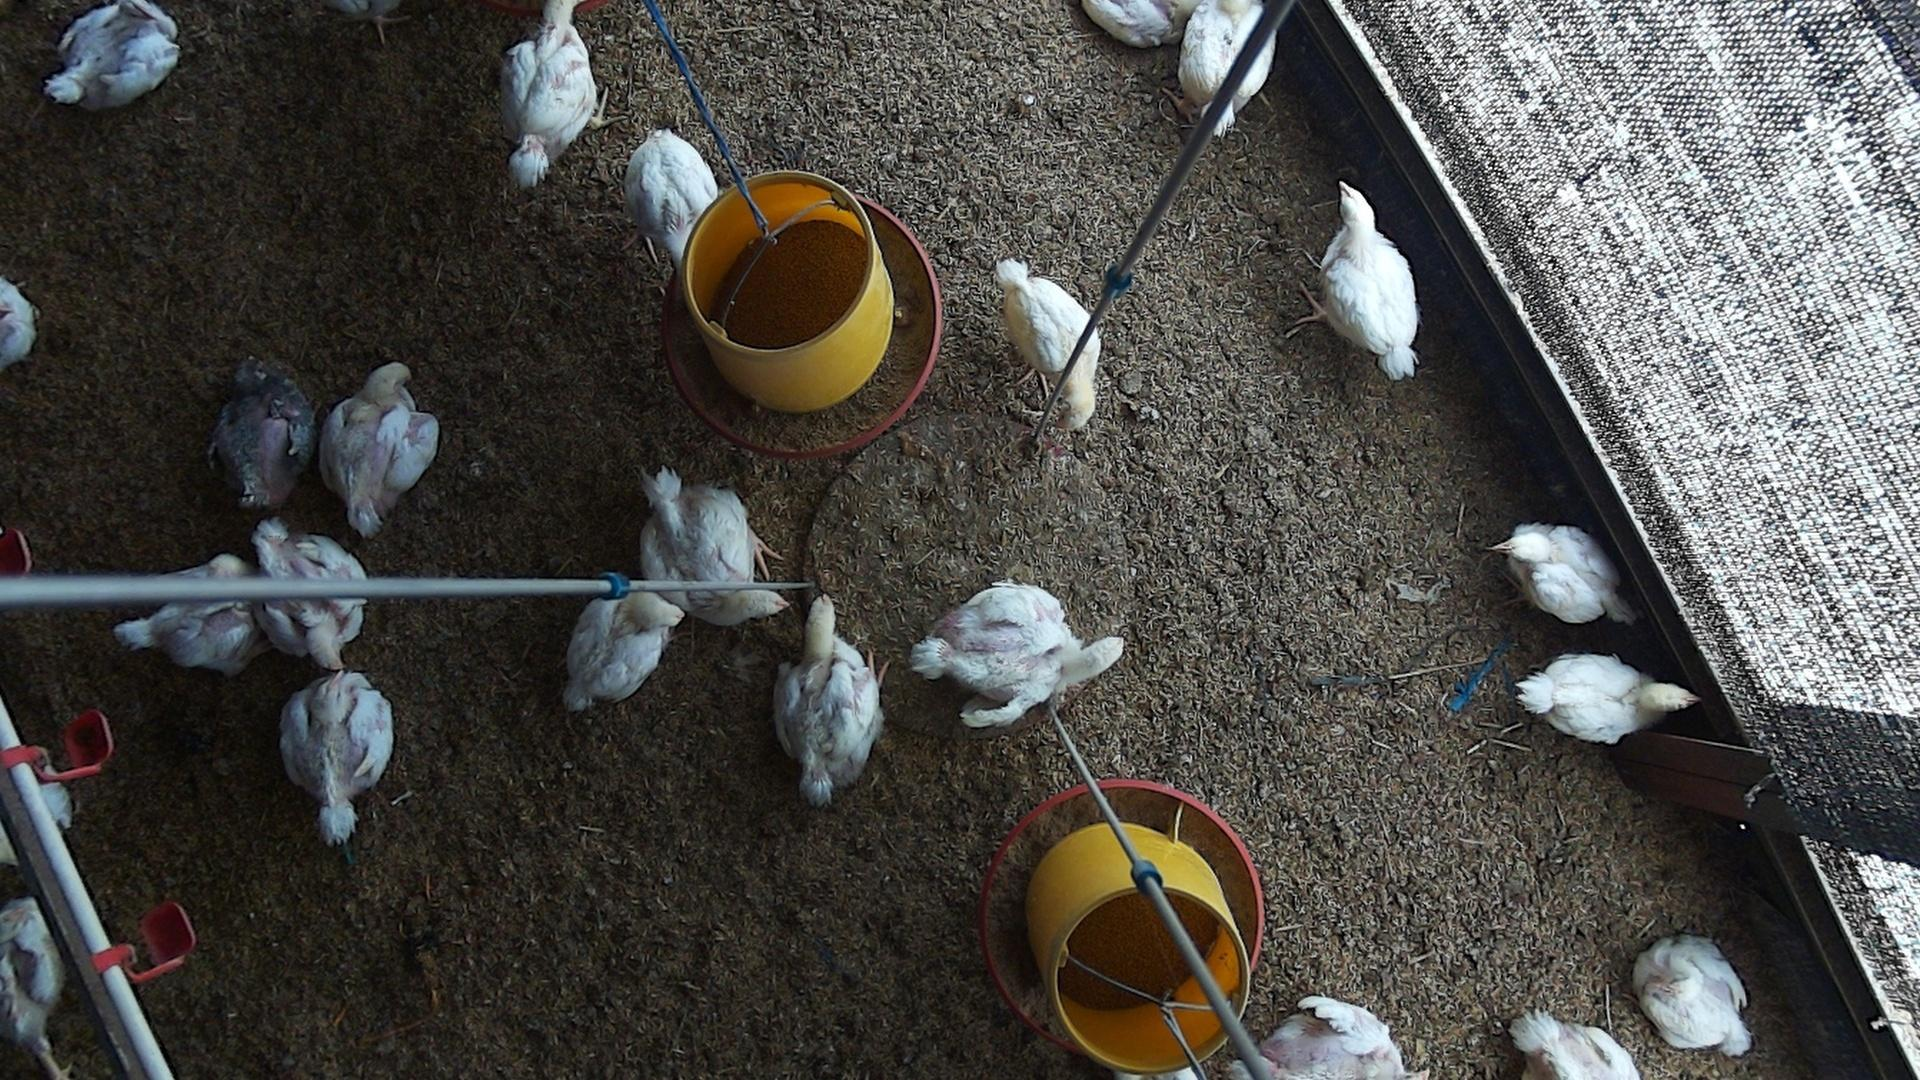ayam_broiler: (911, 582, 1122, 727), (1294, 181, 1419, 378), (642, 468, 790, 628), (774, 595, 882, 800), (319, 360, 439, 534), (280, 671, 394, 843), (990, 261, 1100, 433), (113, 553, 265, 671), (506, 0, 599, 186), (255, 518, 367, 669), (210, 352, 315, 508), (1516, 654, 1693, 744), (45, 0, 181, 107), (564, 588, 683, 707), (1635, 935, 1751, 1052), (1499, 524, 1627, 624), (1179, 0, 1274, 129), (1262, 996, 1404, 1080), (630, 128, 717, 264), (1511, 1011, 1640, 1080)
